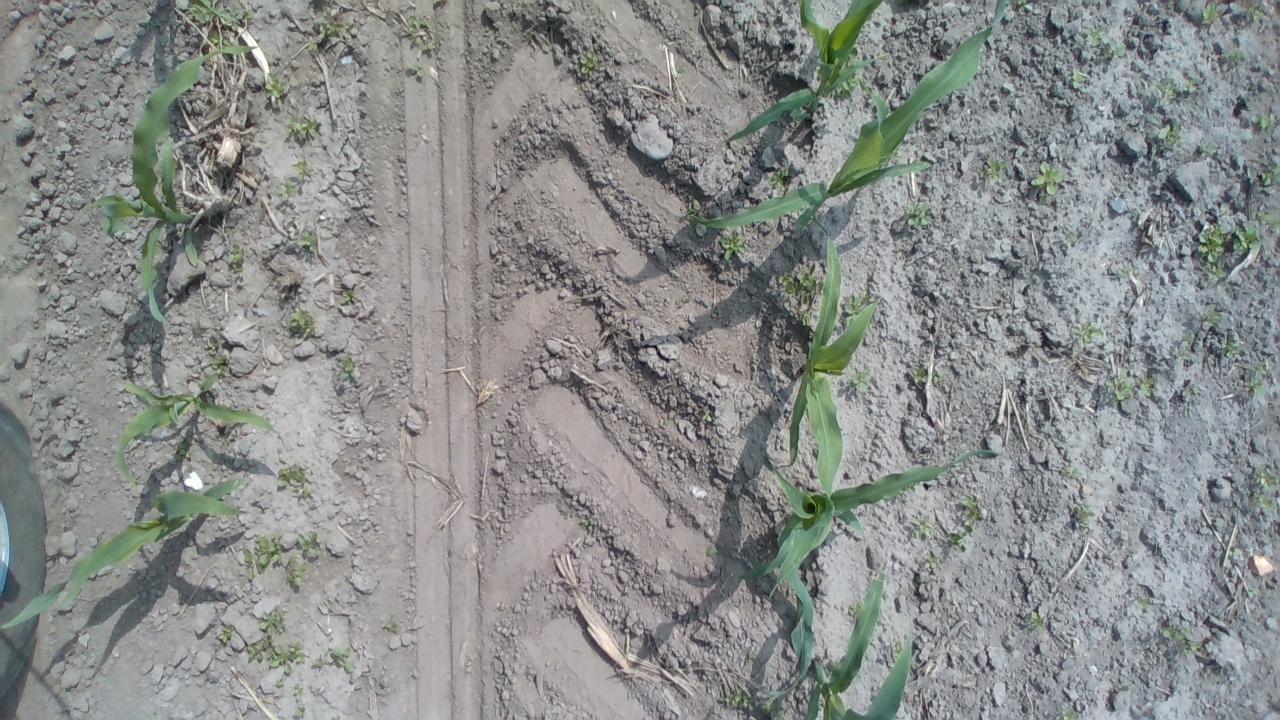Maize: (694, 0, 1022, 240), (748, 439, 994, 613), (92, 47, 240, 329), (2, 476, 257, 635), (779, 239, 882, 515), (723, 0, 896, 147), (790, 558, 920, 720), (111, 371, 287, 485)
Weeds: (1195, 220, 1262, 282), (178, 0, 256, 44), (776, 268, 825, 324), (243, 636, 307, 669), (1105, 372, 1162, 404), (240, 535, 290, 571), (305, 16, 351, 54), (1026, 159, 1070, 197), (406, 12, 444, 55), (274, 462, 314, 500), (1160, 622, 1202, 658), (1084, 25, 1127, 60), (719, 688, 766, 718), (1252, 466, 1280, 516), (328, 351, 362, 387), (284, 306, 320, 340), (1154, 78, 1200, 103), (286, 112, 324, 142), (719, 228, 750, 264), (958, 492, 988, 528), (324, 643, 356, 676), (838, 57, 862, 100), (900, 200, 934, 229), (978, 154, 1009, 185), (256, 606, 290, 634), (1058, 456, 1088, 486), (1025, 608, 1054, 639), (260, 72, 292, 100), (908, 509, 938, 538), (842, 289, 868, 322), (906, 364, 944, 386), (295, 526, 321, 558), (560, 507, 596, 530), (205, 350, 231, 380), (1246, 374, 1270, 406), (1256, 202, 1280, 233), (1220, 44, 1248, 70), (944, 527, 972, 553), (290, 158, 316, 185), (1156, 123, 1183, 149), (848, 366, 873, 394), (1196, 1, 1224, 26), (225, 242, 249, 271), (1073, 321, 1102, 345), (1066, 65, 1092, 91), (768, 162, 792, 190), (1218, 338, 1246, 362), (1178, 382, 1202, 410), (1172, 336, 1194, 366), (296, 228, 320, 255), (1194, 141, 1224, 162), (1259, 162, 1280, 192), (291, 679, 307, 718), (918, 548, 946, 570), (682, 203, 706, 228), (1255, 111, 1279, 136), (286, 562, 308, 589), (1244, 4, 1271, 26), (1196, 306, 1220, 330), (1055, 702, 1087, 720), (892, 640, 910, 671), (576, 50, 598, 75), (1072, 504, 1094, 528), (845, 600, 871, 620), (272, 181, 294, 204), (216, 622, 237, 645), (339, 282, 357, 308), (382, 612, 398, 638), (174, 441, 194, 460), (270, 674, 288, 692), (704, 544, 723, 559), (310, 653, 326, 670), (699, 410, 713, 423)
